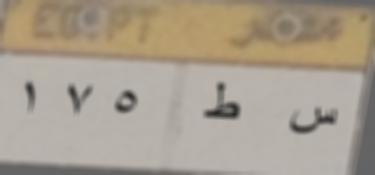1: (18, 80, 46, 116)
5: (110, 78, 141, 122)
7: (63, 79, 97, 120)
Taa: (198, 81, 247, 128)
seen: (284, 96, 342, 141)
